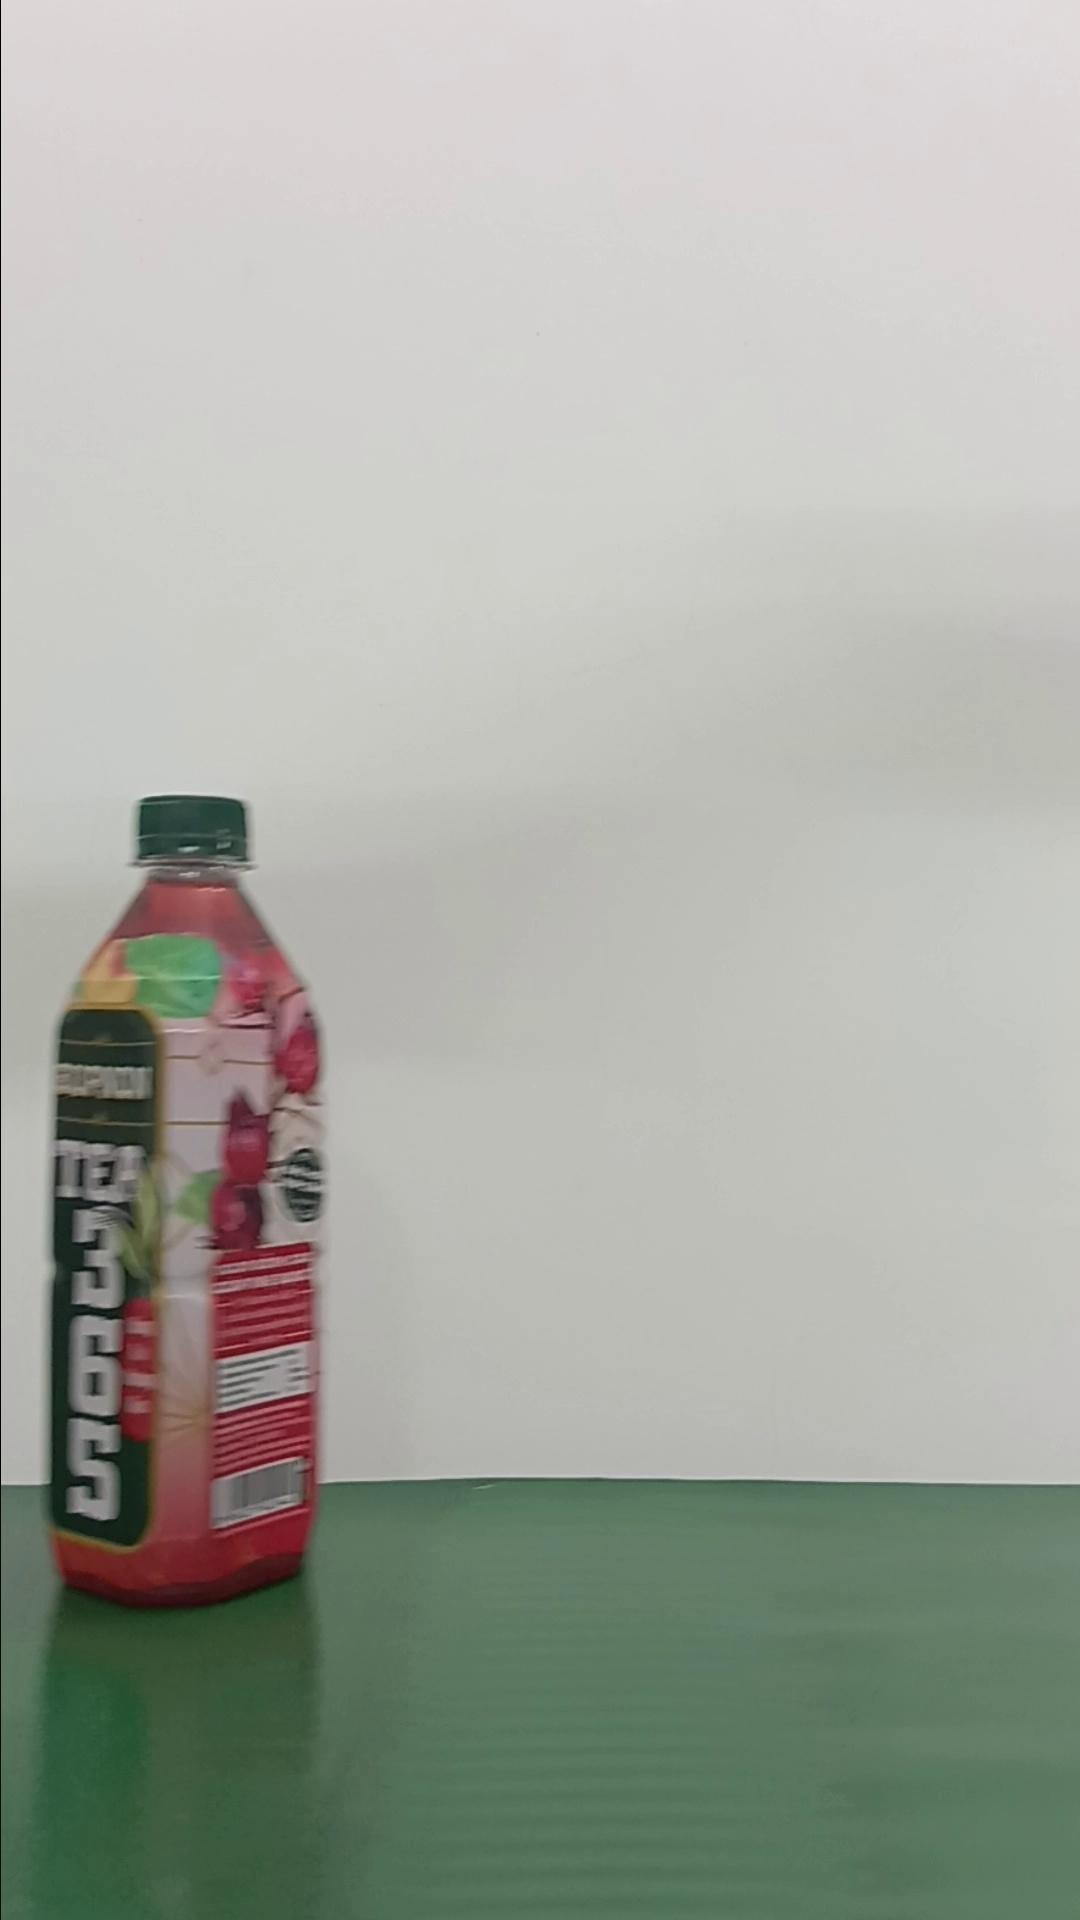khong loi: (44, 791, 328, 1607)
